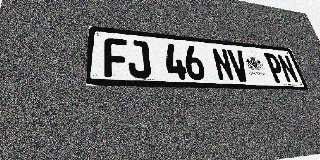4: (163, 43, 188, 80)
6: (182, 45, 206, 80)
F: (104, 37, 128, 78)
J: (127, 40, 151, 78)
N: (211, 48, 235, 81), (276, 54, 300, 83)
P: (263, 53, 287, 83)
V: (227, 49, 251, 82)
